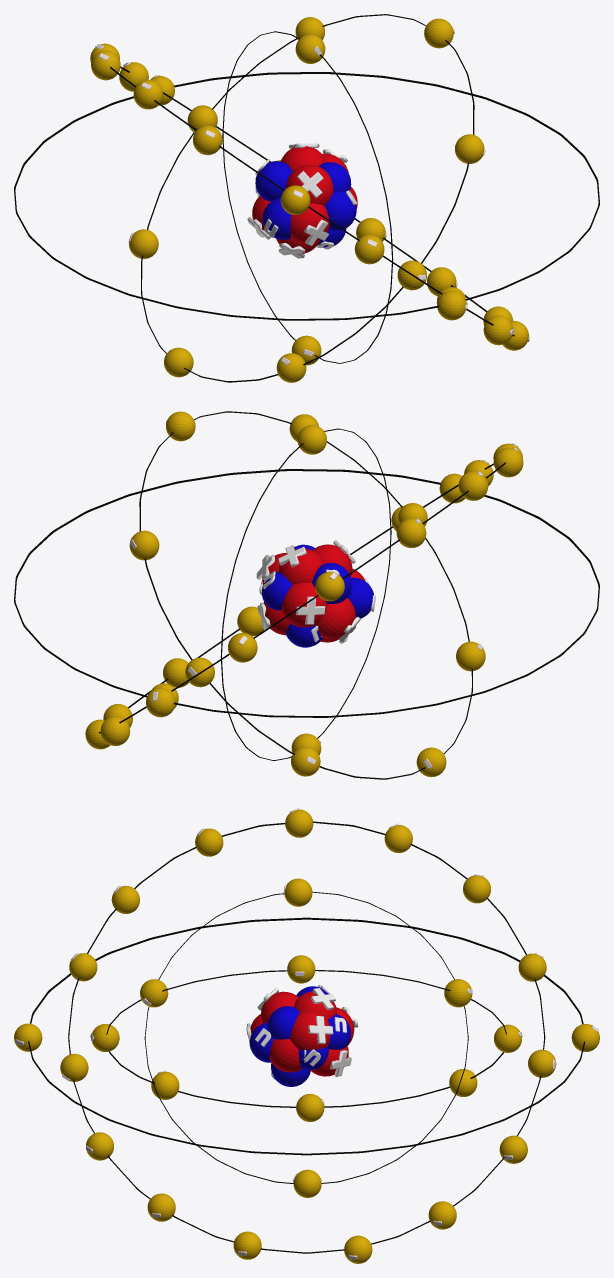
3 renders of one model, top to bottom at view 1: azimuth 30°, elevation 25°; view 2: azimuth 150°, elevation 25°; view 3: azimuth 270°, elevation 25°, orthographic. The views are drawn at different scales.
Parts seen in each view (by area): view 1: Circle.003, Circle.001, Circle, Circle.002, Sphere.015, Sphere.012, Sphere.025, Sphere.014, Sphere.018, Sphere.007, Sphere.026, Sphere.016 (+19 smaller); view 2: Circle.003, Circle.001, Circle, Sphere.005, Circle.002, Sphere.011, Sphere.007, Sphere.018, Sphere.027, Sphere.026, Sphere.003, Sphere.038 (+17 smaller); view 3: Circle.003, Circle.002, Circle.001, Circle, Sphere.030, Sphere, Sphere.024, Sphere.002, Sphere.016, Sphere.036, Sphere.003, Sphere.017 (+24 smaller).
Part boxes in pixels (bbox=[...]): Circle.003: bbox=[14, 72, 599, 320]; Circle.001: bbox=[141, 14, 474, 382]; Circle: bbox=[222, 31, 393, 363]; Circle.002: bbox=[110, 66, 514, 336]; Sphere.015: bbox=[255, 161, 292, 201]; Sphere.012: bbox=[324, 191, 356, 231]; Sphere.025: bbox=[290, 203, 329, 243]; Sphere.014: bbox=[285, 164, 333, 205]; Sphere.018: bbox=[262, 197, 291, 239]; Sphere.007: bbox=[281, 146, 325, 171]; Sphere.026: bbox=[424, 18, 453, 48]; Sphere.016: bbox=[164, 347, 193, 377]; Circle.003: bbox=[14, 469, 599, 717]; Circle.001: bbox=[139, 411, 472, 779]; Circle: bbox=[220, 428, 391, 760]; Sphere.005: bbox=[281, 582, 327, 627]; Circle.002: bbox=[99, 462, 505, 733]; Sphere.011: bbox=[315, 597, 355, 639]; Sphere.007: bbox=[278, 548, 324, 584]; Sphere.018: bbox=[347, 577, 373, 618]; Sphere.027: bbox=[262, 571, 292, 610]; Sphere.026: bbox=[166, 411, 195, 441]; Sphere.003: bbox=[297, 425, 326, 454]; Sphere.038: bbox=[100, 716, 130, 745]; Circle.003: bbox=[28, 917, 584, 1155]; Circle.002: bbox=[68, 821, 545, 1253]; Circle.001: bbox=[106, 970, 506, 1107]; Circle: bbox=[144, 891, 468, 1183]; Sphere.030: bbox=[290, 1012, 330, 1050]; Sphere: bbox=[269, 1039, 302, 1072]; Sphere.024: bbox=[267, 1006, 299, 1039]; Sphere.002: bbox=[293, 1169, 321, 1197]; Sphere.016: bbox=[296, 1093, 324, 1121]; Sphere.036: bbox=[285, 809, 313, 837]; Sphere.003: bbox=[284, 878, 312, 906]; Sphere.017: bbox=[195, 828, 223, 856].
Bounding box in the file's own units: 99.42 × 62.06 × 104.
